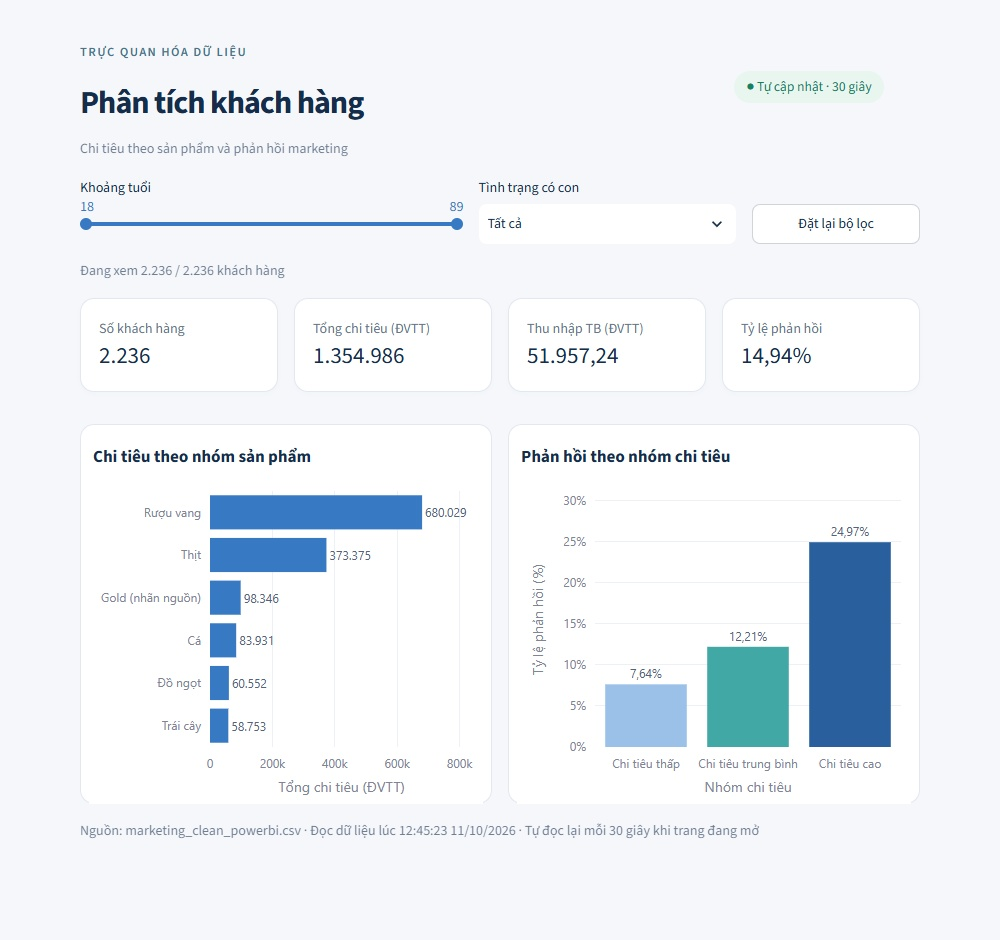

This screenshot's page, from the dashboard's own definition file:
{"tool":"powerbi","page":{"name":"Dashboard tổng quan khách hàng","canvas":[1280,720],"ordinal":0},"visuals":[{"type":"card","fields":{"Values":["Sum(Marketing_end.Spent)"]},"box":[239.4,10.6,218.2,133.3],"z":0},{"type":"card","fields":{"Values":["Count(Marketing_end.ID)"]},"box":[9.1,10.6,218.2,133.3],"z":1000},{"type":"card","fields":{"Values":["Avg(Marketing_end.Income)"]},"box":[475.8,10.6,206.1,133.3],"z":2000},{"type":"donutChart","title":"Tỷ trọng lượt mua theo kênh","fields":{"Y":["Sum(Marketing_end.NumWebPurchases)","Sum(Marketing_end.NumStorePurchases)","Sum(Marketing_end.NumCatalogPurchases)"]},"box":[436.4,450,471.2,254.5],"z":3000},{"type":"donutChart","title":"Cơ cấu chi tiêu theo sản phẩm","fields":{"Y":["Sum(Marketing_end.Wines)","Sum(Marketing_end.Meat)","Sum(Marketing_end.Sweet)","Sum(Marketing_end.Gold)","Sum(Marketing_end.Fish)","Sum(Marketing_end.Fruits)"]},"box":[922.7,298.5,340.9,406.1],"z":4000},{"type":"clusteredColumnChart","title":"Số khách hàng theo học vấn","fields":{"Category":["Marketing_end.Education"],"Y":["Count(Marketing_end.ID)"]},"box":[436.4,162.1,471.2,269.7],"z":7000},{"type":"slicer","fields":{"Values":["Marketing_end.Age"]},"box":[922.7,63.6,340.9,98.5],"z":9000},{"type":"slicer","fields":{"Values":["Marketing_end.Is_Parent"]},"box":[922.7,178.8,345.5,98.5],"z":10000},{"type":"textbox","title":"CUSTOMER DASHBOARD","box":[923.3,10,345.5,42.4],"z":11000},{"type":"clusteredColumnChart","title":"Tỷ lệ phản hồi theo nhóm chi tiêu","fields":{"Category":["Marketing_end.Spending_Group"],"Y":["Marketing_end.Tỷ lệ phản hồi"]},"box":[16,450,405,254],"z":12000},{"type":"card","fields":{"Values":["Marketing_end.Tỷ lệ phản hồi"]},"box":[701.5,10.6,206.1,133.3],"z":13000},{"type":"clusteredColumnChart","title":"Tỷ lệ chấp nhận theo chiến dịch","fields":{"Y":["Avg(Marketing_end.AcceptedCmp1)","Avg(Marketing_end.AcceptedCmp2)","Avg(Marketing_end.AcceptedCmp3)","Avg(Marketing_end.AcceptedCmp4)","Avg(Marketing_end.AcceptedCmp5)","Avg(Marketing_end.Response)"]},"box":[7.6,163.6,413.6,268.2],"z":13001}]}

Visuals, with their boxes on the page's 1280x720 design canvas (x1, y1, x2, y2). These are canvas units, not pixel positions in the 1000x940 screenshot, which may show the page scaled, cropped or inside an application window:
card - Sum(Marketing_end.Spent): [left=239, top=11, right=458, bottom=144]
card - Count(Marketing_end.ID): [left=9, top=11, right=227, bottom=144]
card - Avg(Marketing_end.Income): [left=476, top=11, right=682, bottom=144]
"Tỷ trọng lượt mua theo kênh" donutChart: [left=436, top=450, right=908, bottom=704]
"Cơ cấu chi tiêu theo sản phẩm" donutChart: [left=923, top=298, right=1264, bottom=705]
"Số khách hàng theo học vấn" clusteredColumnChart: [left=436, top=162, right=908, bottom=432]
slicer - Marketing_end.Age: [left=923, top=64, right=1264, bottom=162]
slicer - Marketing_end.Is_Parent: [left=923, top=179, right=1268, bottom=277]
"CUSTOMER DASHBOARD" textbox: [left=923, top=10, right=1269, bottom=52]
"Tỷ lệ phản hồi theo nhóm chi tiêu" clusteredColumnChart: [left=16, top=450, right=421, bottom=704]
card - Marketing_end.Tỷ lệ phản hồi: [left=702, top=11, right=908, bottom=144]
"Tỷ lệ chấp nhận theo chiến dịch" clusteredColumnChart: [left=8, top=164, right=421, bottom=432]
